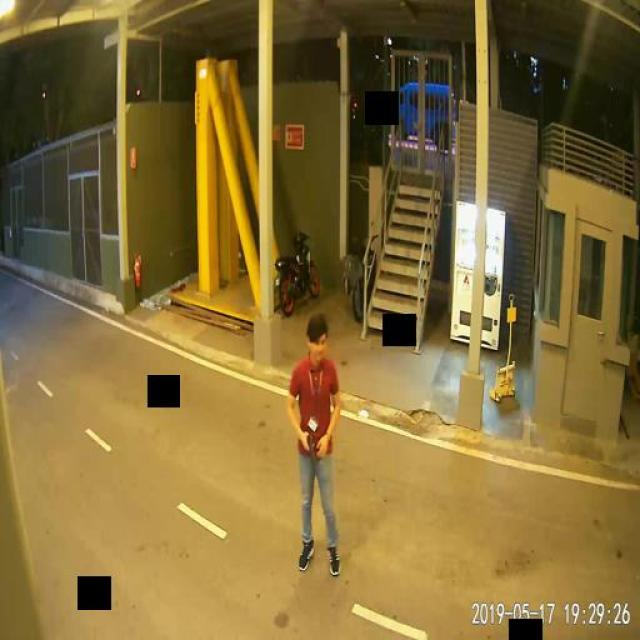gun: (301, 431, 315, 469)
